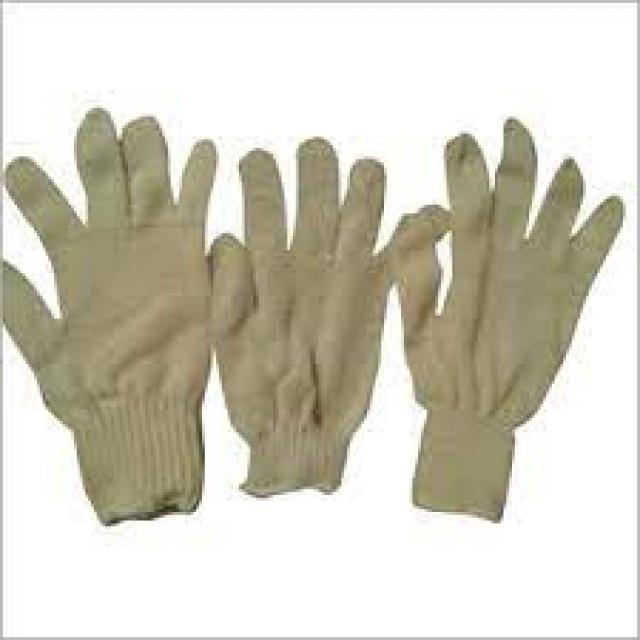Clothes -Biodegradable-: (0, 103, 625, 523)
